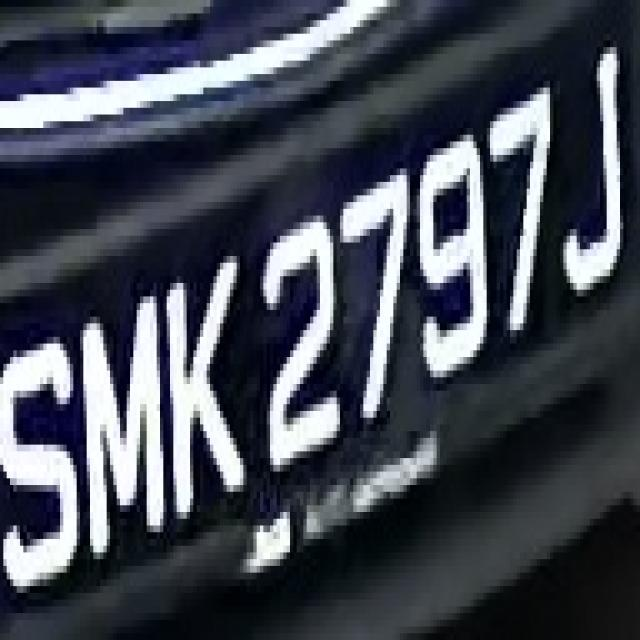2: (257, 209, 350, 492)
7: (336, 155, 416, 445), (480, 67, 560, 357)
9: (413, 128, 497, 397)
J: (547, 41, 630, 303)
K: (160, 222, 247, 532)
M: (67, 276, 173, 559)
S: (0, 310, 80, 626)
